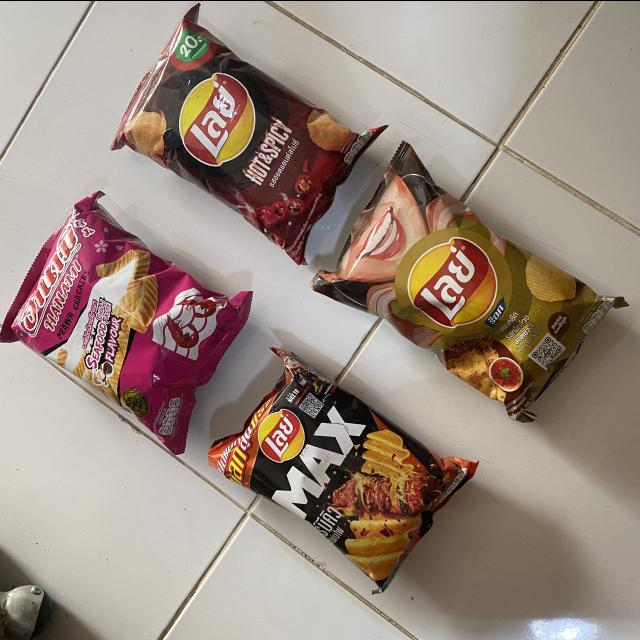plastik: (311, 141, 627, 422), (111, 3, 386, 262), (0, 190, 252, 453), (208, 347, 476, 573)
